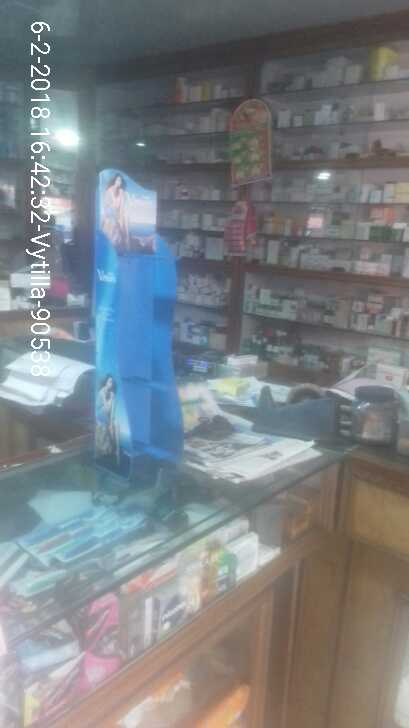reject: (137, 298, 242, 372)
